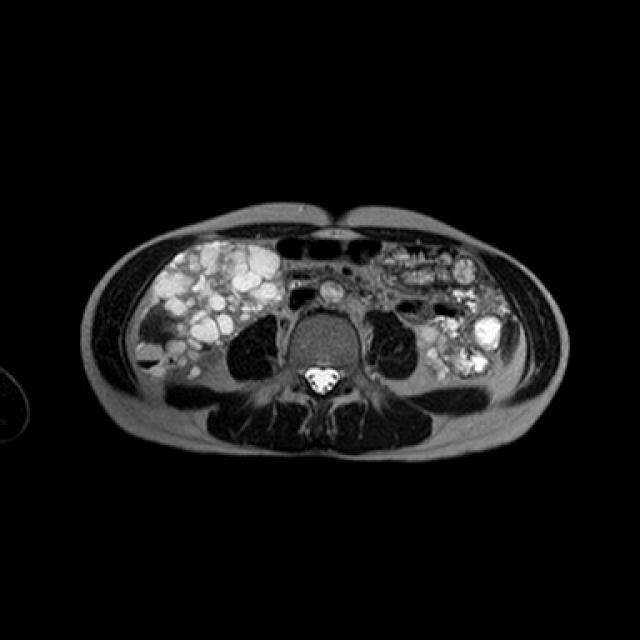sag: (131, 240, 288, 385)
sol: (413, 323, 451, 386)
